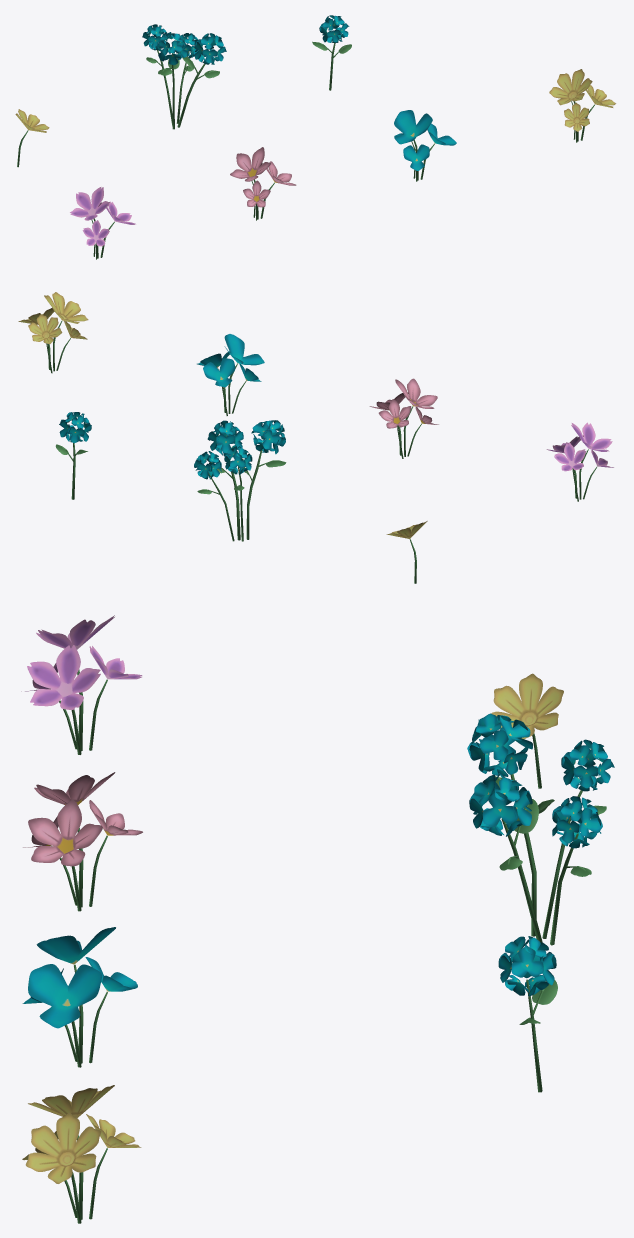
The model's file is flowers_free_model.glb.
3 views of the same model, one above another, from view 1: azimuth 30°, elevation 25°; view 2: azimuth 150°, elevation 25°; view 3: azimuth 270°, elevation 25° (orthographic). The views are drawn at different scales.
Parts seen in each view (by area): view 1: Flower_1_Clump, Flower_2_Clump, Flower_3_Clump, Flower_4_Clump, Flower_5_Clump, Flower_1, Flower_2; view 2: Flower_1_Clump, Flower_2_Clump, Flower_3_Clump, Flower_4_Clump, Flower_5_Clump, Flower_1; view 3: Flower_1_Clump, Flower_2_Clump, Flower_3_Clump, Flower_4_Clump, Flower_5_Clump, Flower_1, Flower_2.
Boxes of the visible parts, bbox=[...] form: Flower_1_Clump: bbox=[142, 24, 226, 129]; Flower_2_Clump: bbox=[549, 69, 616, 142]; Flower_3_Clump: bbox=[394, 110, 456, 181]; Flower_4_Clump: bbox=[230, 147, 296, 220]; Flower_5_Clump: bbox=[70, 187, 135, 259]; Flower_1: bbox=[312, 15, 351, 90]; Flower_2: bbox=[15, 109, 49, 167]; Flower_1_Clump: bbox=[194, 420, 286, 541]; Flower_2_Clump: bbox=[18, 292, 88, 373]; Flower_3_Clump: bbox=[197, 334, 264, 415]; Flower_4_Clump: bbox=[369, 378, 438, 458]; Flower_5_Clump: bbox=[546, 422, 613, 501]; Flower_1: bbox=[55, 412, 91, 499]; Flower_1_Clump: bbox=[467, 713, 614, 945]; Flower_2_Clump: bbox=[22, 1085, 141, 1223]; Flower_3_Clump: bbox=[22, 927, 137, 1067]; Flower_4_Clump: bbox=[23, 772, 142, 911]; Flower_5_Clump: bbox=[21, 615, 142, 754]; Flower_1: bbox=[498, 936, 557, 1092]; Flower_2: bbox=[491, 673, 563, 788].
Size of the model in its own units: 3.59 by 0.6742 by 1.71.
Materials: 1 (1 with a texture image).
